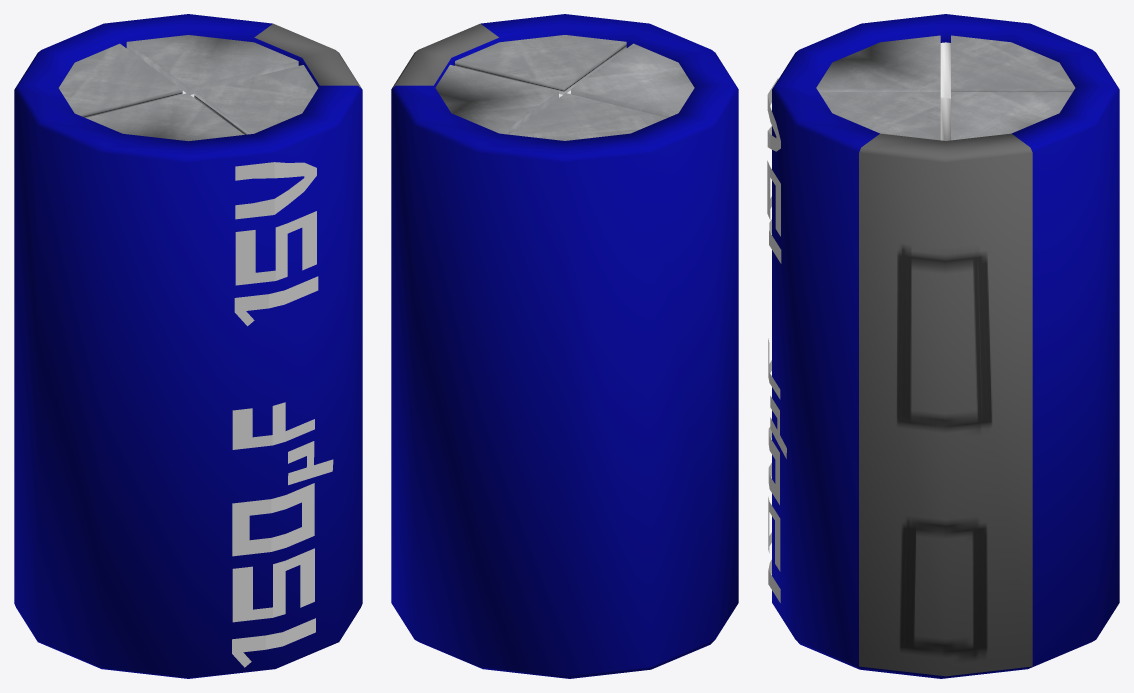
The model's file is kondensator_niebieski.fbx.
The picture shows the model from 3 angles, left to right: view 1: azimuth 30°, elevation 25°; view 2: azimuth 150°, elevation 25°; view 3: azimuth 270°, elevation 25°; orthographic projection.
Visible parts, largest first — view 1: Kondensator_niebieski; view 2: Kondensator_niebieski; view 3: Kondensator_niebieski.
Boxes of the visible parts, x1=… form: Kondensator_niebieski: x1=14, y1=14, x2=362, y2=678; Kondensator_niebieski: x1=391, y1=14, x2=738, y2=678; Kondensator_niebieski: x1=767, y1=14, x2=1119, y2=678.
Bounding box in the file's own units: 200 × 331 × 203.
